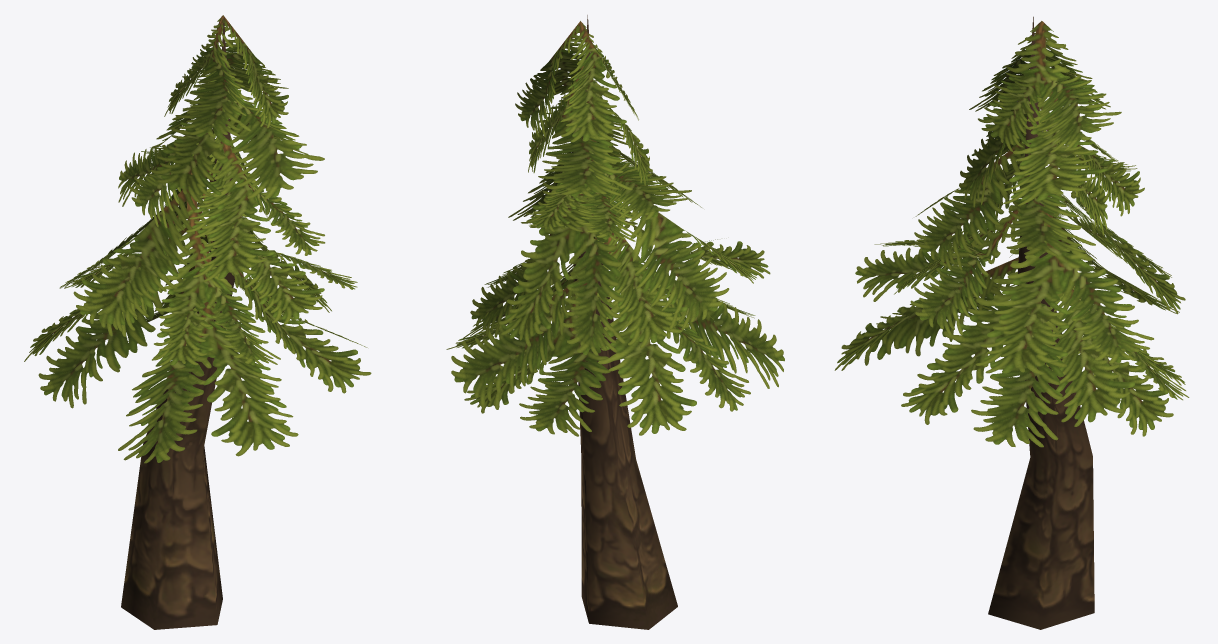
File: tree_conifer_06.fbx
The picture shows the model from 3 angles, left to right: view 1: azimuth 30°, elevation 25°; view 2: azimuth 150°, elevation 25°; view 3: azimuth 270°, elevation 25°; orthographic projection. The views are drawn at different scales.
Parts seen in each view (by area): view 1: tree_conifer_06; view 2: tree_conifer_06; view 3: tree_conifer_06.
Part boxes in pixels (box(x1,y1,x2,y2)): tree_conifer_06: box(24, 15, 371, 629); tree_conifer_06: box(446, 15, 784, 629); tree_conifer_06: box(834, 16, 1189, 629).
Bounding box in the file's own units: 192 × 357 × 201.
